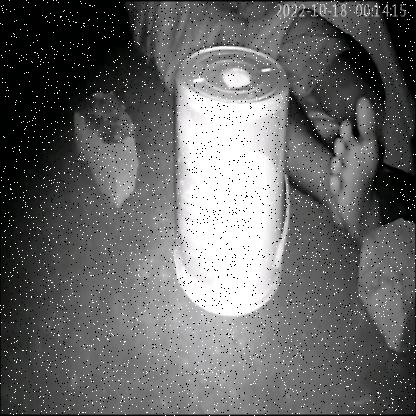leg: (294, 87, 386, 252)
